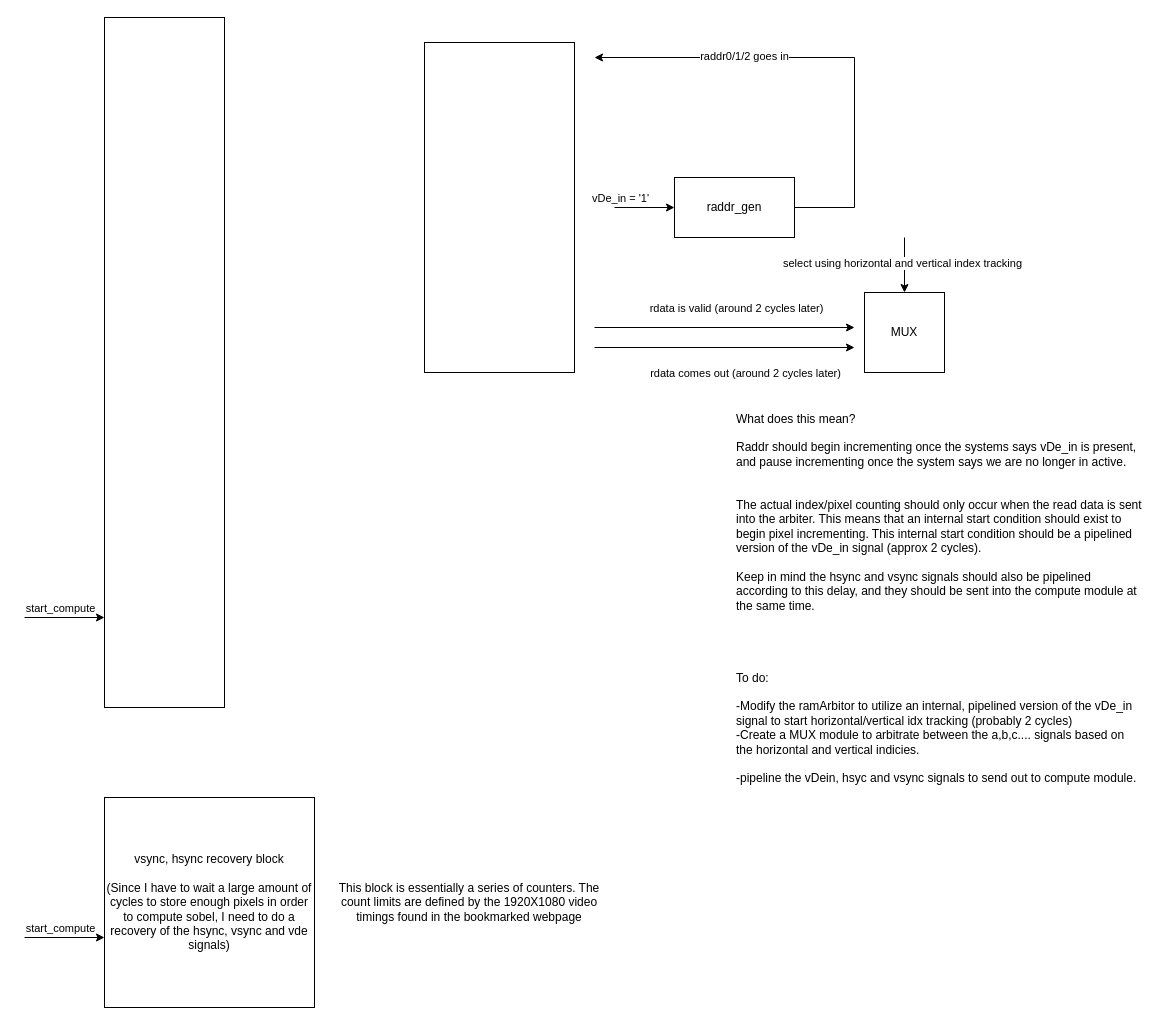
The diagram is 1162 pixels wide and 1025 high, and some of its shapes have lost their labels. Each missing label, with the centre of its shape:
MUX (Determines the matrix to be fed into the sobel compute function): (x=164, y=362)
ramArray: (x=499, y=207)
